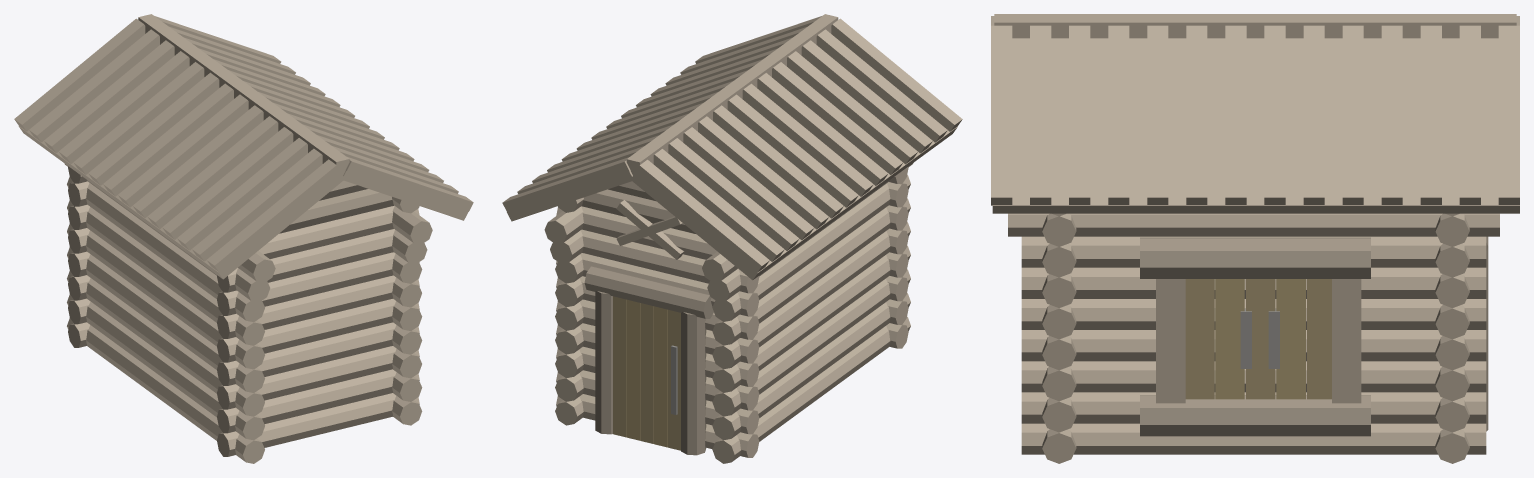
The model's file is Log_cabins2.fbx.
3 views of the same model, side by side, from view 1: azimuth 30°, elevation 25°; view 2: azimuth 150°, elevation 25°; view 3: azimuth 270°, elevation 25° (orthographic). The views are drawn at different scales.
Visible parts, largest first — view 1: _pCube34, _pCylinder41, _pCube33, _pCylinder40, _pCube35, _pCylinder33, _pCylinder34, _pCylinder30, _pCylinder32, _pCylinder31, _pCylinder29, _pCylinder28 (+4 smaller); view 2: _pCube34, _pCylinder41, _pCube33, _pCylinder40, _pCube35, _pCylinder2, _pCylinder3, _pCylinder11, _pCylinder1, _pCylinder12, _pCube2, _pCylinder10 (+14 smaller); view 3: _pCube33, _pCylinder40, _pCylinder22, _pCube35, _pCylinder23, _pCube9, _pCube8, _pCube10, _pCube11, _pCube13, _pCube14, _pCube12 (+19 smaller).
Boxes of the visible parts, x1,y1,x2,y2 form: _pCube34: (14,18,344,279); _pCylinder41: (64,163,275,463); _pCube33: (155,16,473,220); _pCylinder40: (392,197,432,425); _pCube35: (138,14,349,174); _pCylinder33: (217,369,419,433); _pCylinder34: (217,393,419,456); _pCylinder30: (217,299,419,362); _pCylinder32: (217,346,419,409); _pCylinder31: (217,322,419,385); _pCylinder29: (217,275,419,338); _pCylinder28: (217,252,419,315); _pCube34: (631,18,962,280); _pCylinder41: (702,163,913,463); _pCube33: (502,16,821,221); _pCylinder40: (544,197,583,425); _pCube35: (626,14,838,175); _pCylinder2: (681,312,706,455); _pCylinder3: (584,266,713,318); _pCylinder11: (581,229,759,293); _pCylinder1: (595,291,612,434); _pCylinder12: (556,206,717,259); _pCube2: (626,299,640,440); _pCylinder10: (556,253,759,316); _pCube33: (991,25,1519,213); _pCylinder40: (1008,213,1499,454); _pCylinder22: (1140,237,1370,278); _pCube35: (994,14,1516,38); _pCylinder23: (1140,395,1370,436); _pCube9: (1156,279,1185,403); _pCube8: (1332,279,1361,403); _pCube10: (1185,279,1214,399); _pCube11: (1215,279,1244,399); _pCube13: (1276,279,1305,399); _pCube14: (1307,279,1331,399); _pCube12: (1246,279,1275,399).
Bounding box in the file's own units: 34.91 × 37.56 × 46.74.
